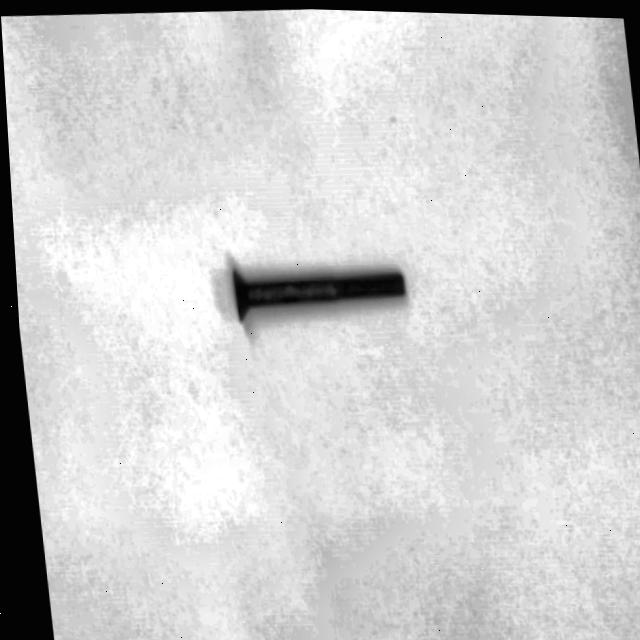Flat head socket screw: (224, 255, 408, 326)
